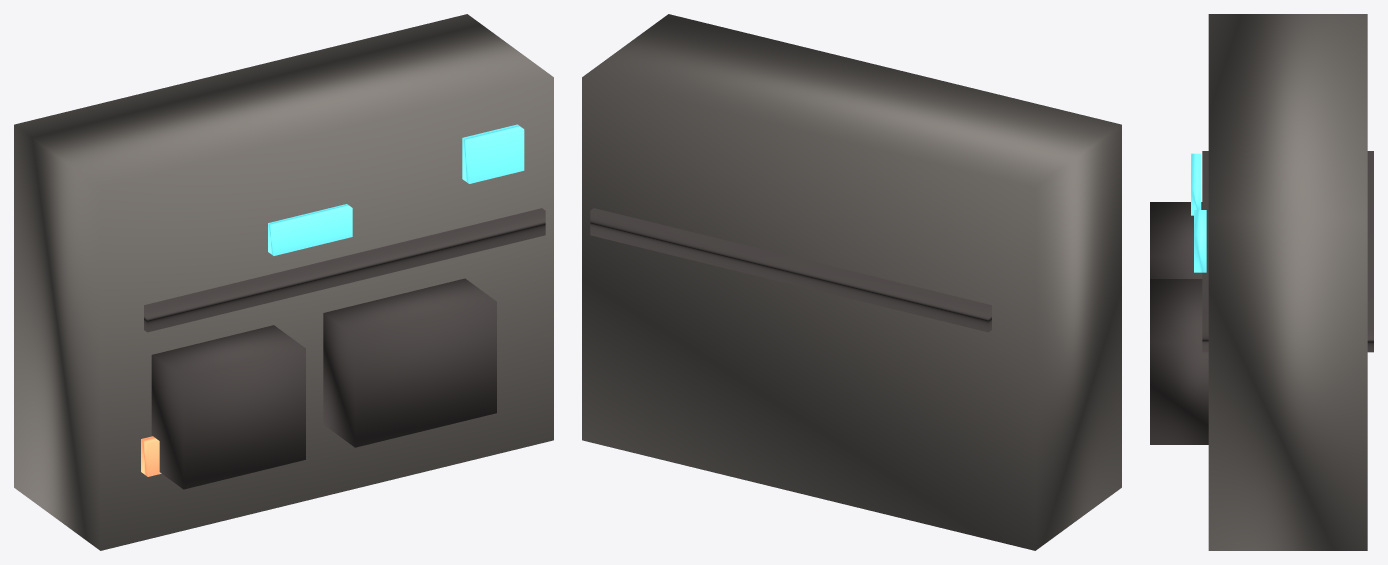
The model's file is damaged-vessel-salvage-rack-lod1.glb.
The picture shows the model from 3 angles, left to right: view 1: azimuth 30°, elevation 25°; view 2: azimuth 150°, elevation 25°; view 3: azimuth 270°, elevation 25°; orthographic projection. The views are drawn at different scales.
Visible parts, largest first — view 1: damaged-vessel-salvage-rack-shell, damaged-vessel-salvage-rack-bin-right, damaged-vessel-salvage-rack-bin-left, damaged-vessel-salvage-rack-shelf, damaged-vessel-salvage-rack-status, damaged-vessel-salvage-rack-tag, damaged-vessel-salvage-rack-warning; view 2: damaged-vessel-salvage-rack-shell, damaged-vessel-salvage-rack-shelf; view 3: damaged-vessel-salvage-rack-shell, damaged-vessel-salvage-rack-bin-right, damaged-vessel-salvage-rack-bin-left, damaged-vessel-salvage-rack-shelf, damaged-vessel-salvage-rack-status, damaged-vessel-salvage-rack-tag.
Part boxes in pixels (x1,y1,x2,y2): damaged-vessel-salvage-rack-shell: (14, 14, 553, 550); damaged-vessel-salvage-rack-bin-right: (323, 278, 496, 447); damaged-vessel-salvage-rack-bin-left: (151, 325, 305, 489); damaged-vessel-salvage-rack-shelf: (144, 208, 545, 332); damaged-vessel-salvage-rack-status: (462, 124, 524, 183); damaged-vessel-salvage-rack-tag: (268, 204, 352, 255); damaged-vessel-salvage-rack-warning: (141, 436, 161, 476); damaged-vessel-salvage-rack-shell: (582, 14, 1121, 550); damaged-vessel-salvage-rack-shelf: (590, 208, 991, 332); damaged-vessel-salvage-rack-shell: (1208, 14, 1367, 550); damaged-vessel-salvage-rack-bin-right: (1150, 279, 1208, 444); damaged-vessel-salvage-rack-bin-left: (1150, 202, 1202, 278); damaged-vessel-salvage-rack-shelf: (1202, 151, 1373, 352); damaged-vessel-salvage-rack-status: (1194, 210, 1206, 272); damaged-vessel-salvage-rack-tag: (1191, 153, 1201, 215).
Size of the model in its own units: 2.3 by 1.76 by 1.07.
